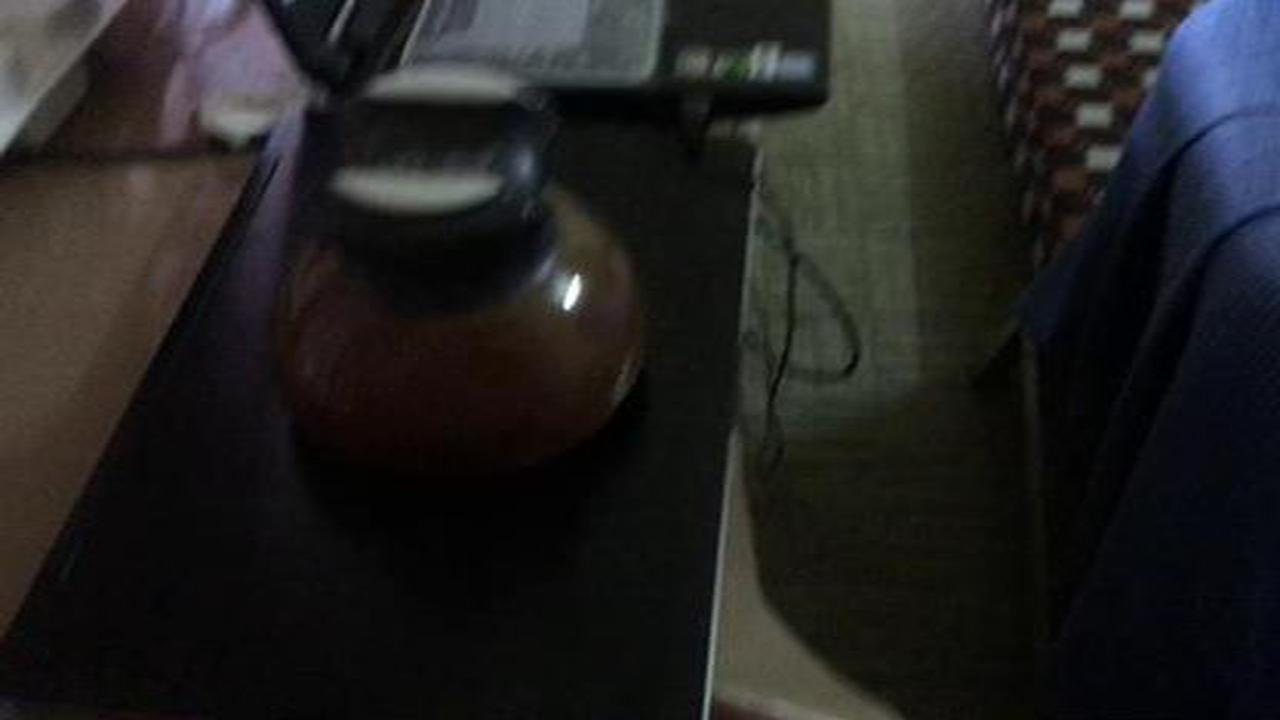insulator_pin: (252, 63, 681, 513)
